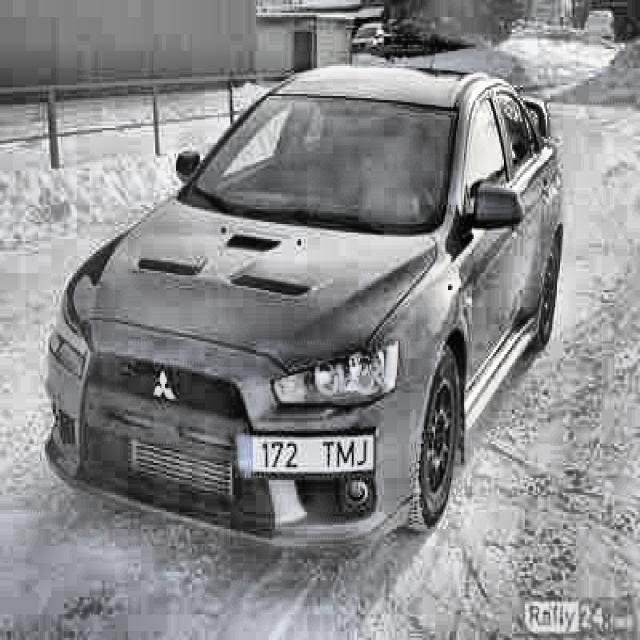license_plate: (238, 434, 375, 474)
